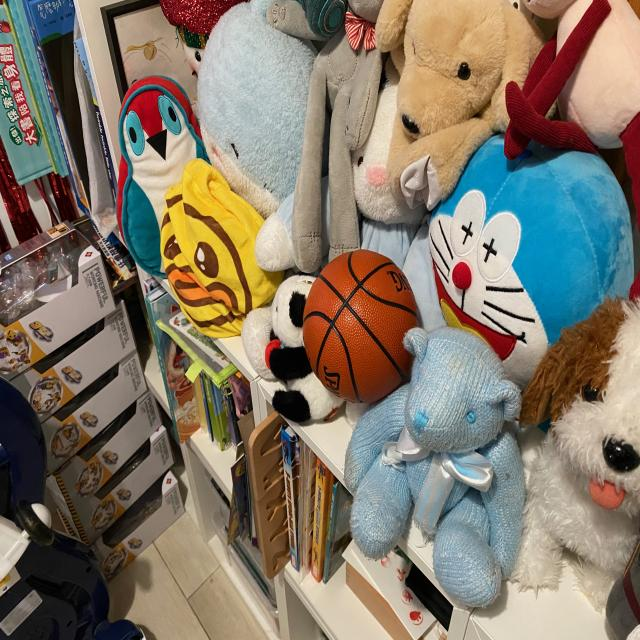Ball: (292, 236, 438, 419)
